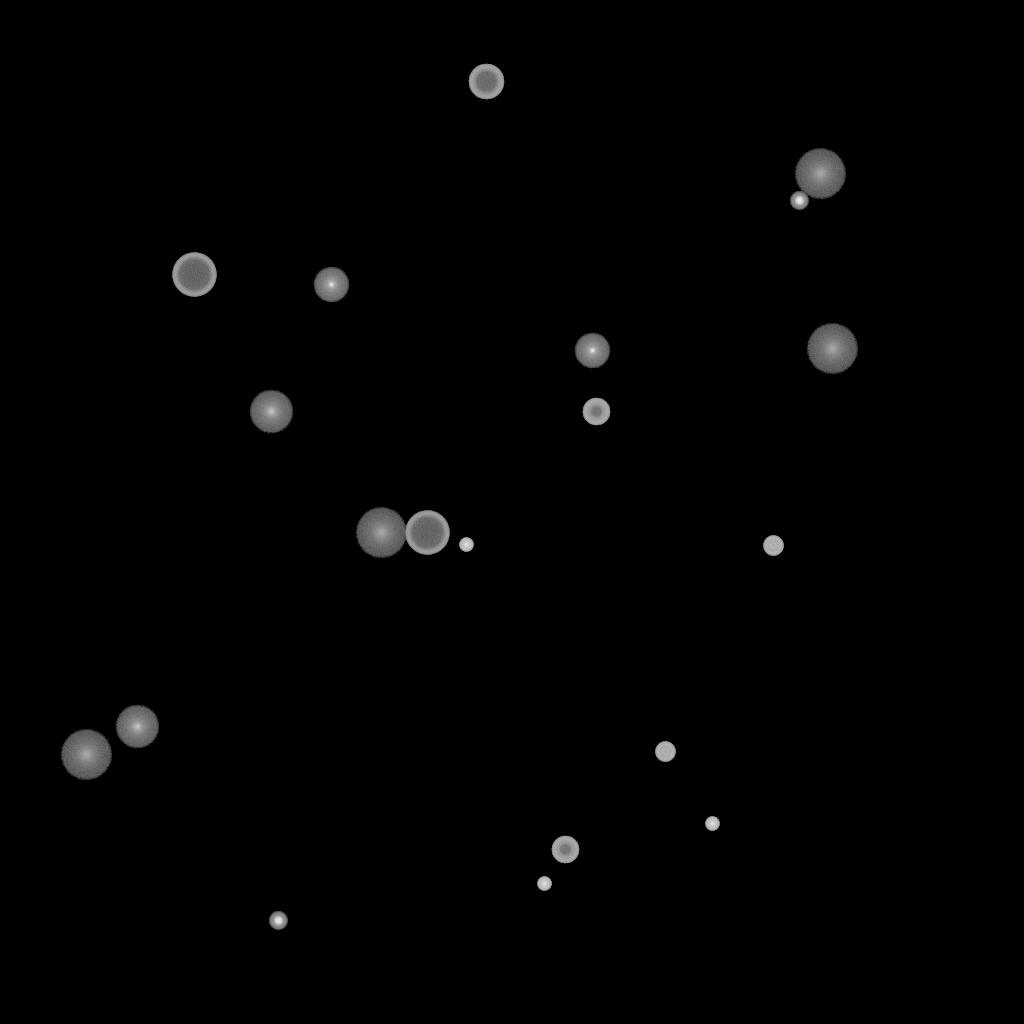depth:-20: (790, 192, 808, 210), (269, 912, 287, 930)
depth:-30: (537, 877, 551, 891), (459, 538, 473, 552), (705, 817, 719, 831)
depth:-40: (763, 536, 783, 556), (655, 742, 675, 762)
depth:-50: (582, 398, 610, 426), (551, 836, 579, 864)
depth:-60: (468, 64, 504, 100)
depth:-70: (405, 511, 449, 555), (172, 253, 216, 297)
depth:0: (574, 333, 610, 369), (313, 267, 349, 303)
depth:10: (249, 390, 293, 434), (115, 705, 159, 749)
depth:20: (806, 324, 858, 374), (355, 508, 407, 558), (794, 149, 846, 199), (60, 730, 112, 780)
